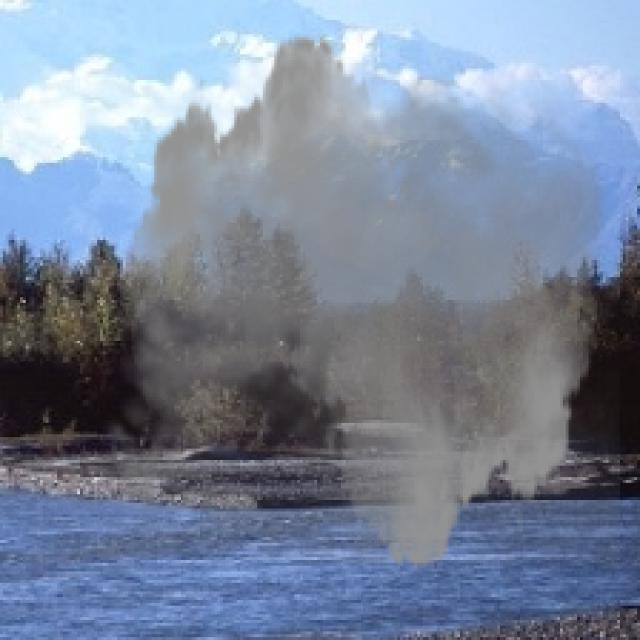Smoke: (89, 17, 620, 586)
